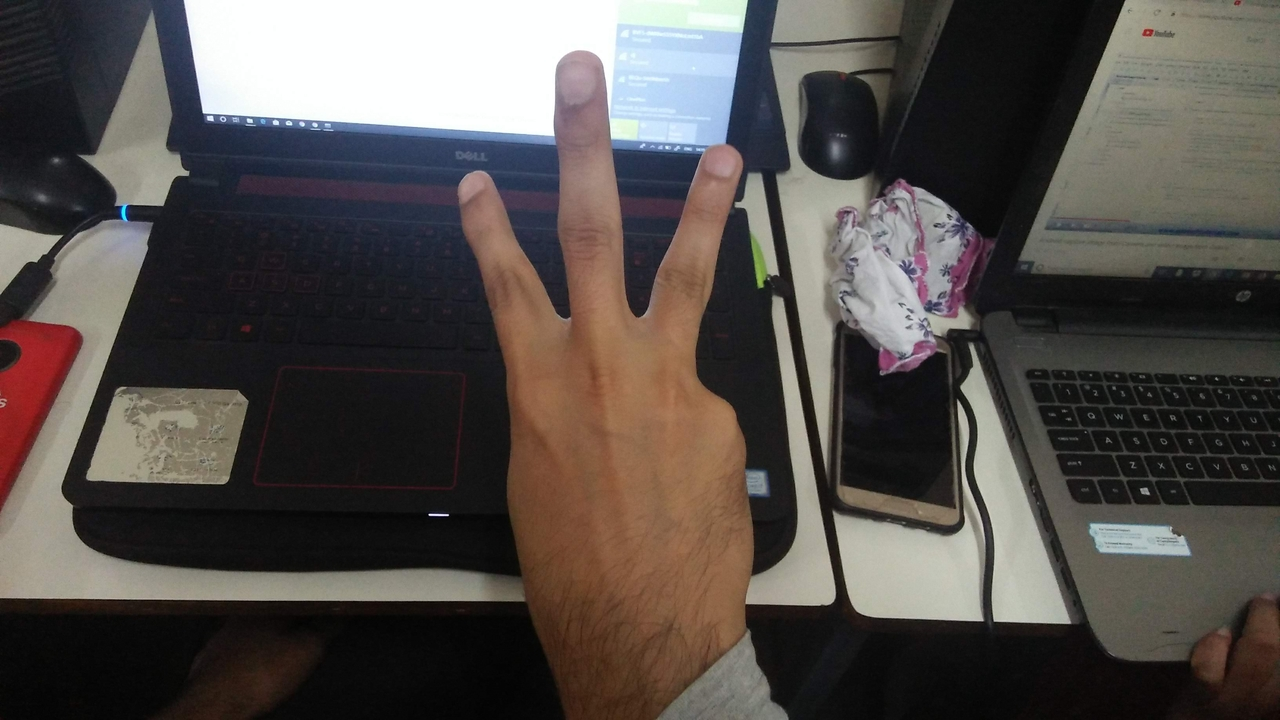fingertip: (440, 158, 508, 218), (686, 132, 754, 192), (546, 46, 610, 104)
